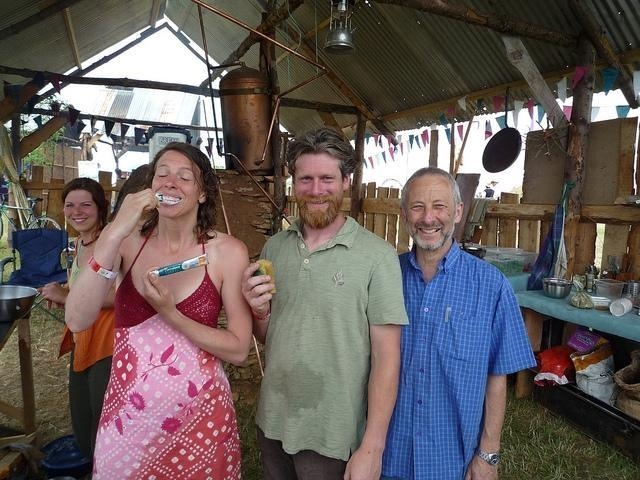bicycle: (0, 194, 61, 238)
